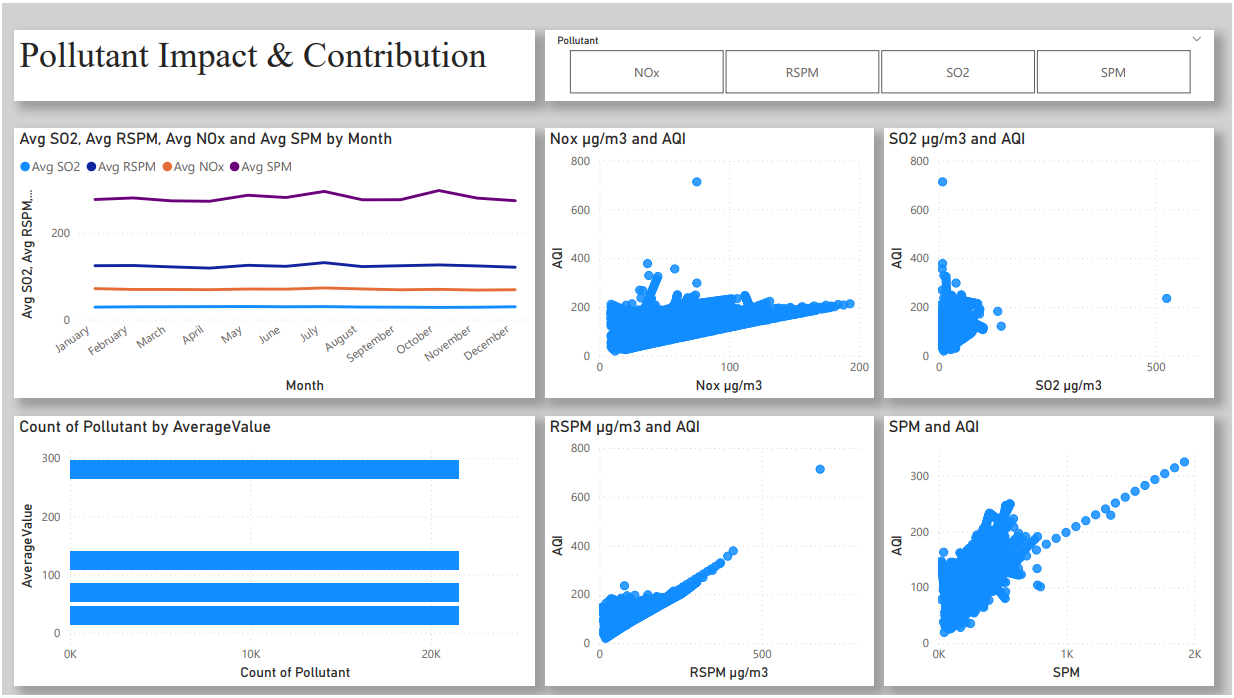

The page's visual inventory and layout, read from the dashboard file:
{"tool":"powerbi","page":{"name":"PollutantImpact","canvas":[1280,720],"ordinal":2},"visuals":[{"type":"lineChart","fields":{"Y":["PNQ_AQI_Final_Cleaned_WithLocation.Avg SO2","PNQ_AQI_Final_Cleaned_WithLocation.Avg RSPM","PNQ_AQI_Final_Cleaned_WithLocation.Avg NOx","PNQ_AQI_Final_Cleaned_WithLocation.Avg SPM"],"Category":["PNQ_AQI_Final_Cleaned_WithLocation.Date.Variation.Date Hierarchy.Month"]},"box":[12.7,131,542.3,280.3],"z":0},{"type":"barChart","fields":{"Y":["CountNonNull(Pollutant_Averages.Pollutant)"],"Category":["Pollutant_Averages.AverageValue"]},"box":[12.7,429.6,542.3,280.3],"z":1000},{"type":"scatterChart","fields":{"Y":["PNQ_AQI_Final_Cleaned_WithLocation.AQI"],"X":["PNQ_AQI_Final_Cleaned_WithLocation.Nox µg/m3"]},"box":[564.8,131,342.3,280.3],"z":2000},{"type":"scatterChart","fields":{"Y":["PNQ_AQI_Final_Cleaned_WithLocation.AQI"],"X":["PNQ_AQI_Final_Cleaned_WithLocation.RSPM µg/m3"]},"box":[564.8,429.6,342.3,280.3],"z":3000},{"type":"scatterChart","fields":{"Y":["PNQ_AQI_Final_Cleaned_WithLocation.AQI"],"X":["PNQ_AQI_Final_Cleaned_WithLocation.SO2 µg/m3"]},"box":[918.3,131,342.3,280.3],"z":4000},{"type":"scatterChart","fields":{"Y":["PNQ_AQI_Final_Cleaned_WithLocation.AQI"],"X":["PNQ_AQI_Final_Cleaned_WithLocation.SPM"]},"box":[918.3,429.6,342.3,280.3],"z":5000},{"type":"textbox","box":[12.7,28.2,542.3,73.2],"z":6000},{"type":"slicer","fields":{"Values":["Pollutant_Averages.Pollutant"]},"box":[564.8,28.2,695.8,73.2],"z":7000}]}

Visuals, with their boxes in screenshot pixels (x1, y1, x2, y2), scaled from the page's 1280x720 canvas onto the 1234x698 screenshot:
lineChart - PNQ_AQI_Final_Cleaned_WithLocation.Avg SO2 x PNQ_AQI_Final_Cleaned_WithLocation.Avg RSPM: [12,127,535,399]
barChart - CountNonNull(Pollutant_Averages.Pollutant) x Pollutant_Averages.AverageValue: [12,416,535,688]
scatterChart - PNQ_AQI_Final_Cleaned_WithLocation.AQI x PNQ_AQI_Final_Cleaned_WithLocation.Nox µg/m3: [545,127,875,399]
scatterChart - PNQ_AQI_Final_Cleaned_WithLocation.AQI x PNQ_AQI_Final_Cleaned_WithLocation.RSPM µg/m3: [545,416,875,688]
scatterChart - PNQ_AQI_Final_Cleaned_WithLocation.AQI x PNQ_AQI_Final_Cleaned_WithLocation.SO2 µg/m3: [885,127,1215,399]
scatterChart - PNQ_AQI_Final_Cleaned_WithLocation.AQI x PNQ_AQI_Final_Cleaned_WithLocation.SPM: [885,416,1215,688]
textbox: [12,27,535,98]
slicer - Pollutant_Averages.Pollutant: [545,27,1215,98]
